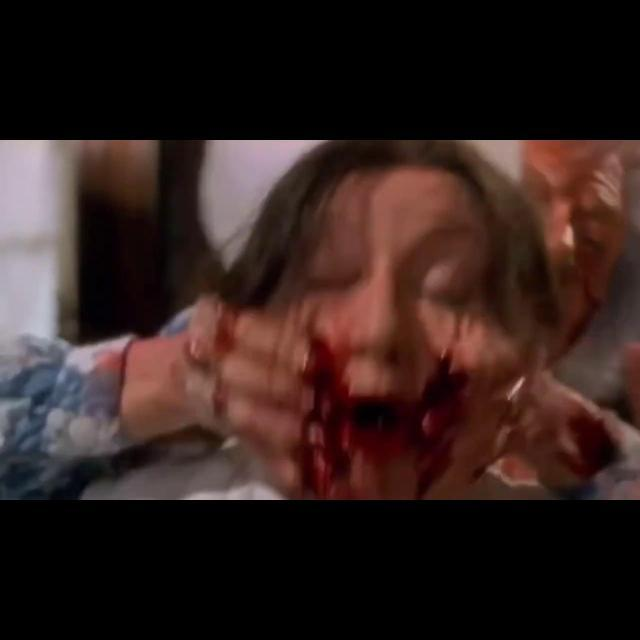blood: (282, 305, 476, 497), (554, 408, 632, 482), (211, 305, 244, 422), (560, 285, 608, 353)
